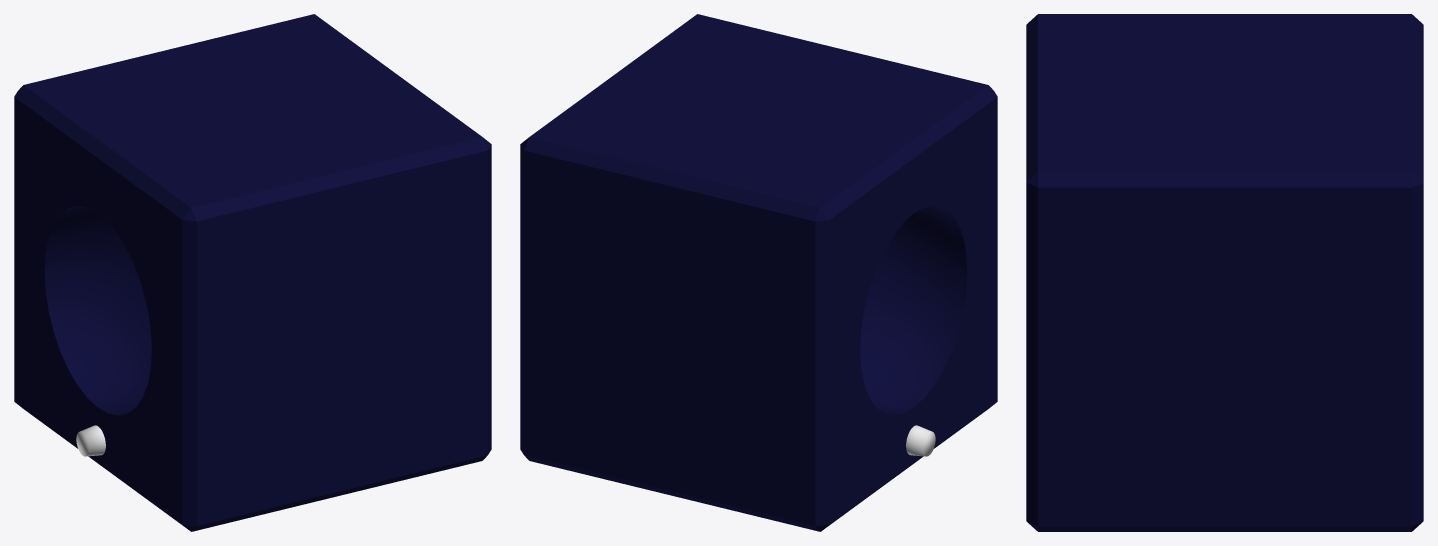
Rendered from スピーカー.glb.
3 views of the same model, side by side, from view 1: azimuth 30°, elevation 25°; view 2: azimuth 150°, elevation 25°; view 3: azimuth 270°, elevation 25° (orthographic). The views are drawn at different scales.
Parts seen in each view (by area): view 1: Cube, 円柱.003; view 2: Cube, 円柱.003; view 3: Cube.
Boxes of the visible parts, x1,y1,x2,y2 form: Cube: (14,14,491,531); 円柱.003: (76,425,105,456); Cube: (520,14,997,531); 円柱.003: (906,425,935,456); Cube: (1026,14,1423,531).
Bounding box in the file's own units: 1.05 × 1 × 1.
